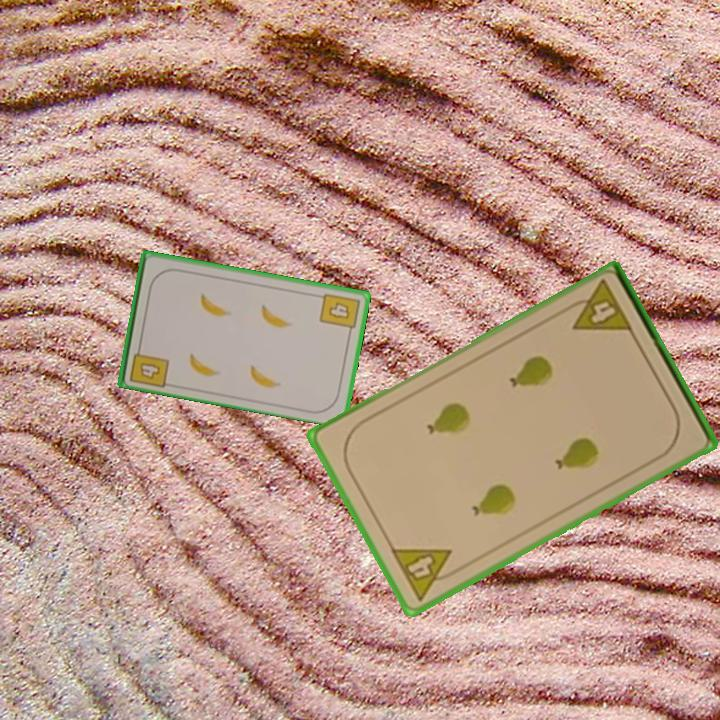4b: (126, 340, 172, 390), (316, 290, 362, 337)
4p: (387, 544, 464, 604), (560, 276, 636, 336)
